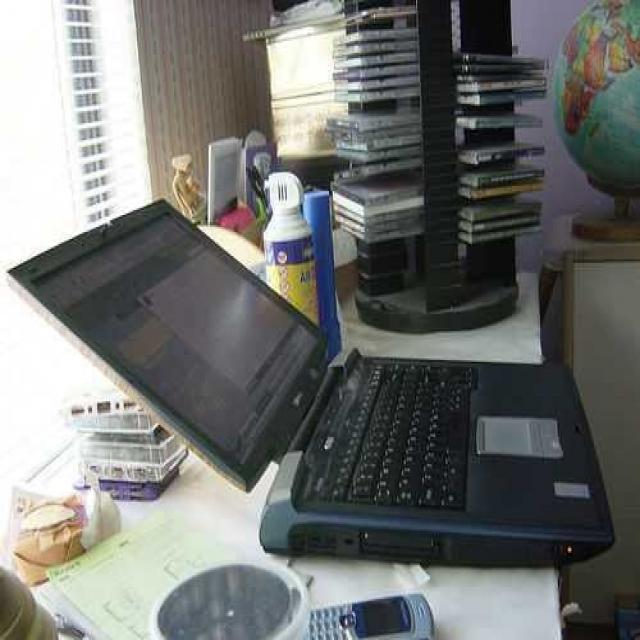laptop: (124, 203, 606, 556)
